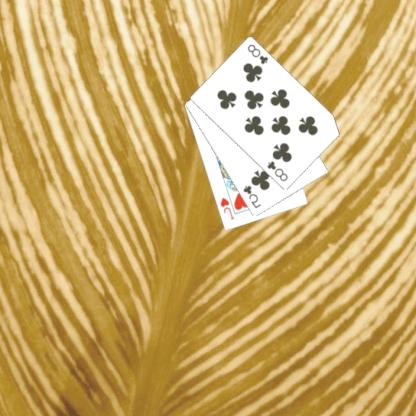5C: (242, 183, 264, 210)
8C: (266, 158, 291, 182), (247, 42, 272, 66)
JH: (219, 195, 237, 221)
